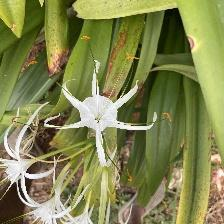spider lily: (43, 60, 164, 171), (2, 100, 51, 207), (29, 196, 67, 224), (69, 193, 100, 224)
